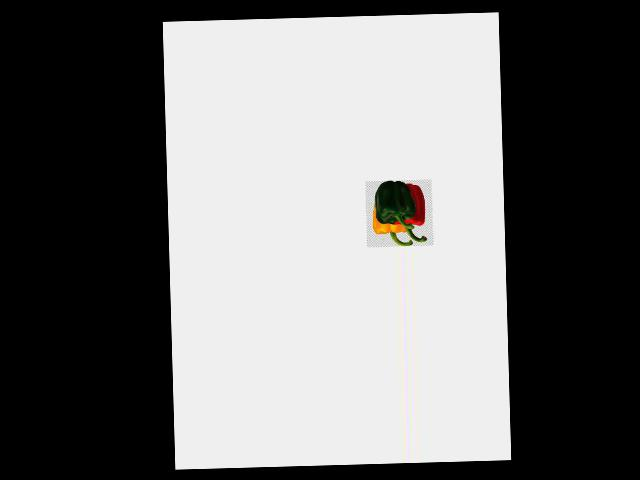bell_pepper: (394, 181, 433, 244)
